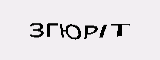І: (98, 23, 109, 39)
